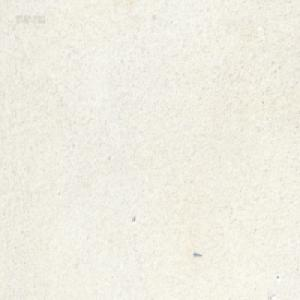Nail: (193, 250, 202, 257)
